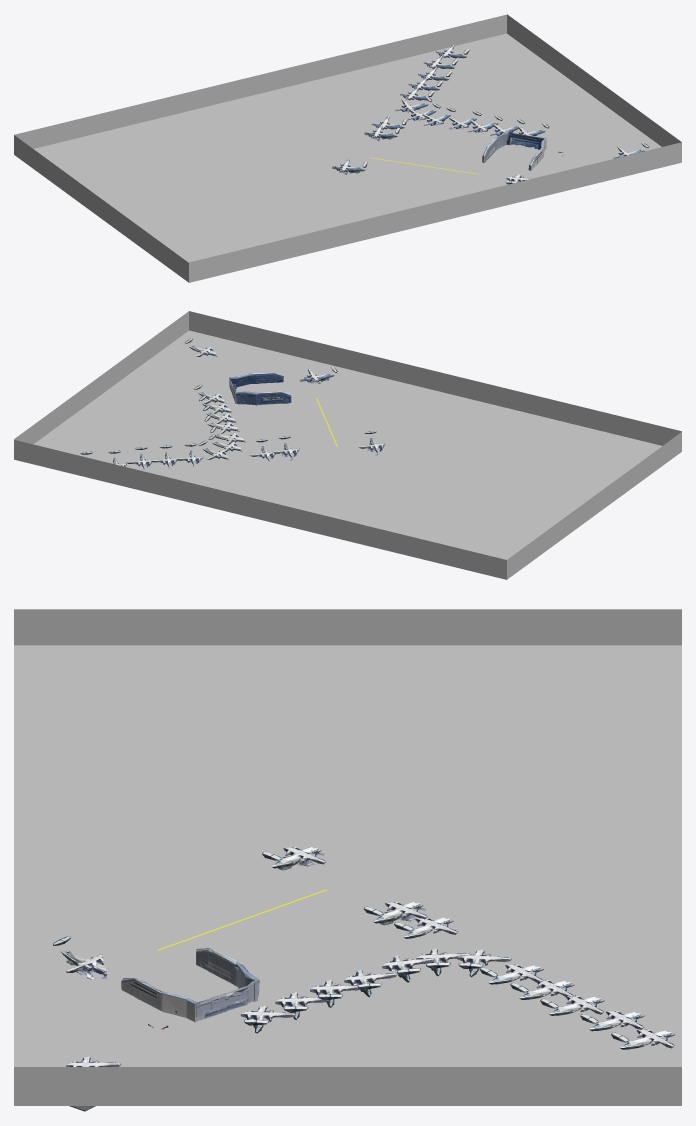
Rendered from airport.dae.
3 views of the same model, one above another, from view 1: azimuth 30°, elevation 25°; view 2: azimuth 150°, elevation 25°; view 3: azimuth 270°, elevation 25° (orthographic). The views are drawn at different scales.
Visible parts, largest first — view 1: EXPORT_GOOGLE_SAT_WM, BuildingMesh-00018; view 2: EXPORT_GOOGLE_SAT_WM, BuildingMesh-00018; view 3: EXPORT_GOOGLE_SAT_WM, BuildingMesh-00018.
Part boxes in pixels (box(x1,y1,x2,y2)): EXPORT_GOOGLE_SAT_WM: box(14, 14, 681, 282); BuildingMesh-00018: box(331, 45, 649, 184); EXPORT_GOOGLE_SAT_WM: box(14, 311, 681, 579); BuildingMesh-00018: box(80, 338, 385, 469); EXPORT_GOOGLE_SAT_WM: box(14, 609, 681, 1105); BuildingMesh-00018: box(53, 847, 675, 1111).
Bounding box in the file's own units: 1001 × 611 × 62.19.
